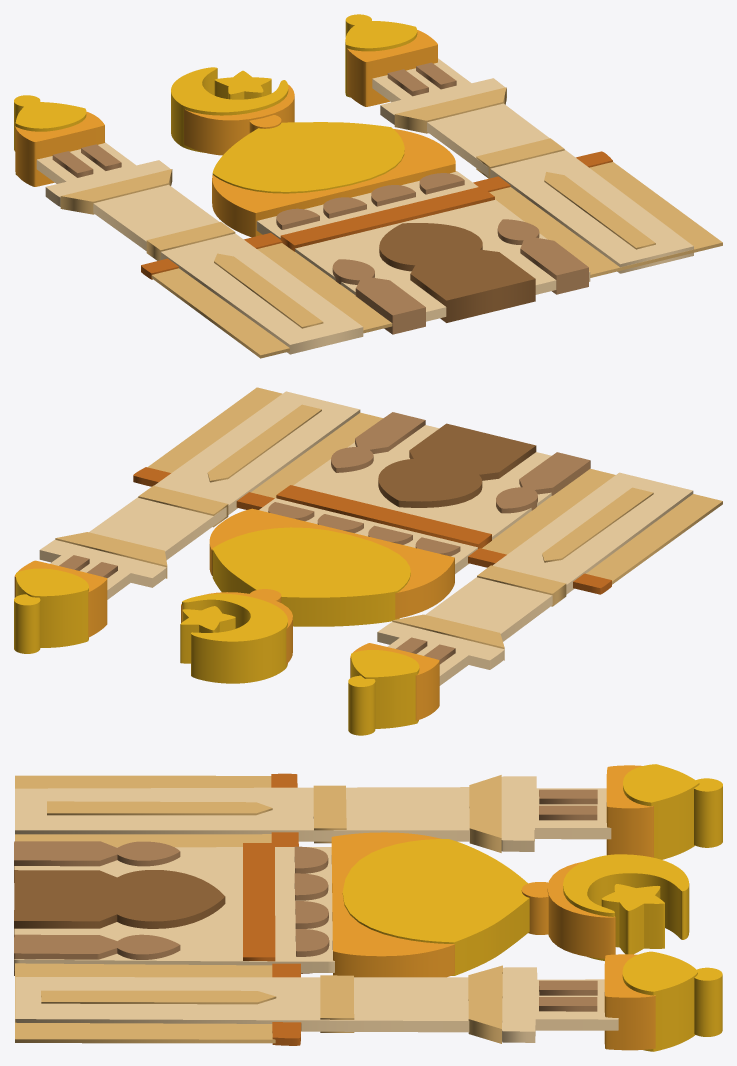
The model's file is emoji_u1f54c.glb.
3 views of the same model, one above another, from view 1: azimuth 30°, elevation 25°; view 2: azimuth 150°, elevation 25°; view 3: azimuth 270°, elevation 25° (orthographic). The views are drawn at different scales.
Parts seen in each view (by area): view 1: emoji_u1f54c; view 2: emoji_u1f54c; view 3: emoji_u1f54c.
Boxes of the visible parts, box(x1,y1,x2,y2) form: emoji_u1f54c: box(14, 14, 722, 358); emoji_u1f54c: box(14, 387, 722, 735); emoji_u1f54c: box(14, 764, 722, 1051).
Bounding box in the file's own units: 0.0302 × 0.0032 × 0.0342.
